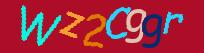2: (83, 14, 106, 47)
C: (105, 7, 131, 38)
W: (20, 5, 61, 45)
g: (125, 9, 146, 42), (142, 14, 162, 47)
r: (162, 11, 183, 34)
z: (59, 11, 84, 37)
